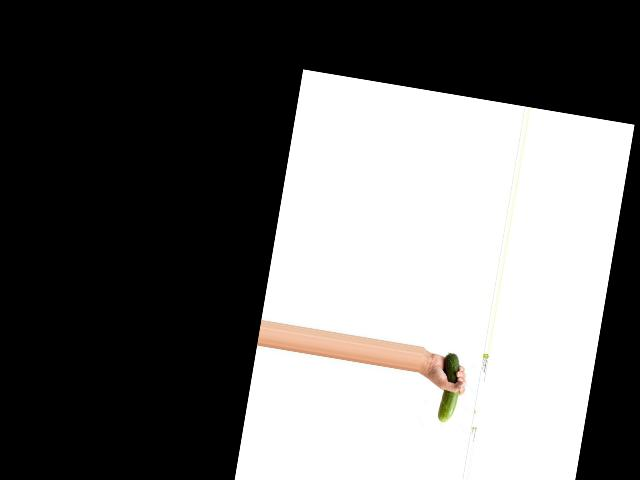cucumber: (435, 353, 465, 424)
